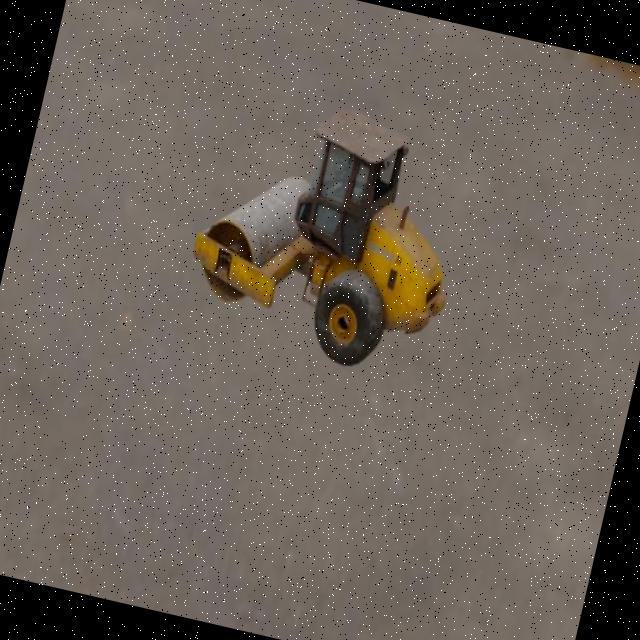Roller: (174, 81, 483, 385)
